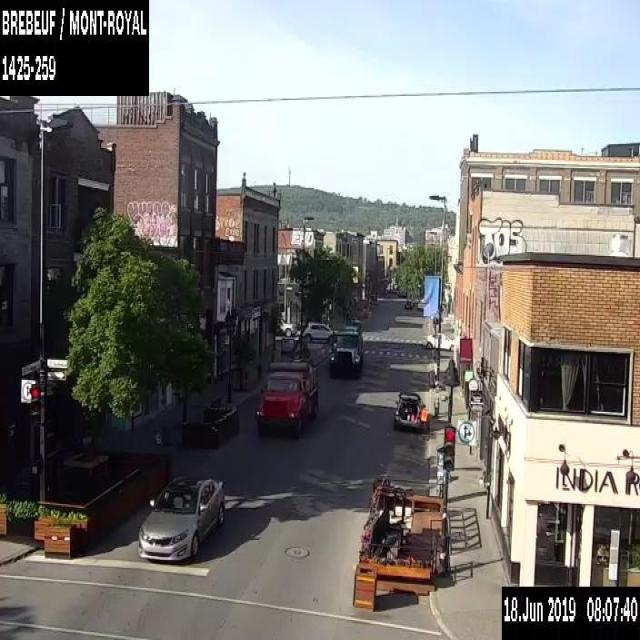vehicle: (137, 473, 226, 560), (254, 359, 320, 437), (331, 324, 364, 376), (391, 391, 428, 432), (302, 318, 336, 342), (421, 329, 454, 351), (276, 317, 296, 336), (402, 299, 414, 308)
